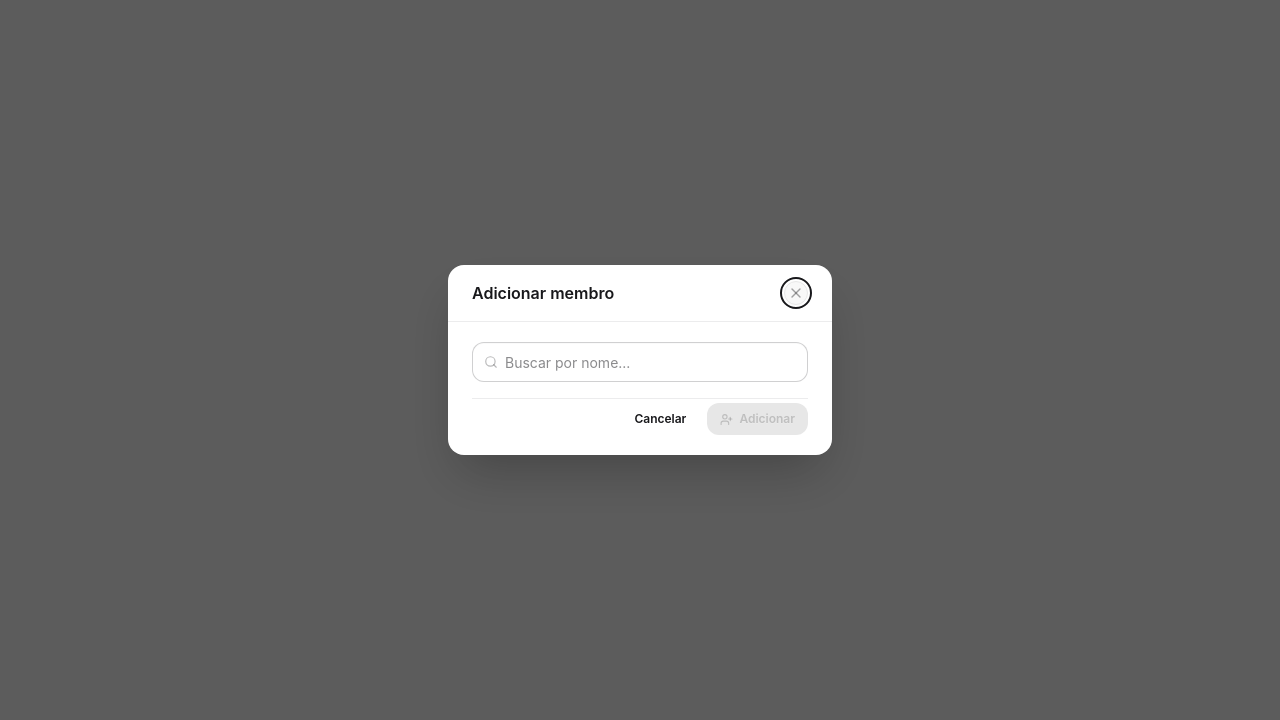
Test case: AddMemberModal › exibe resultados da busca no dropdown
In the field with placeholder "Buscar por nome...": [640, 362] box [472,342,808,382], type "Alice"
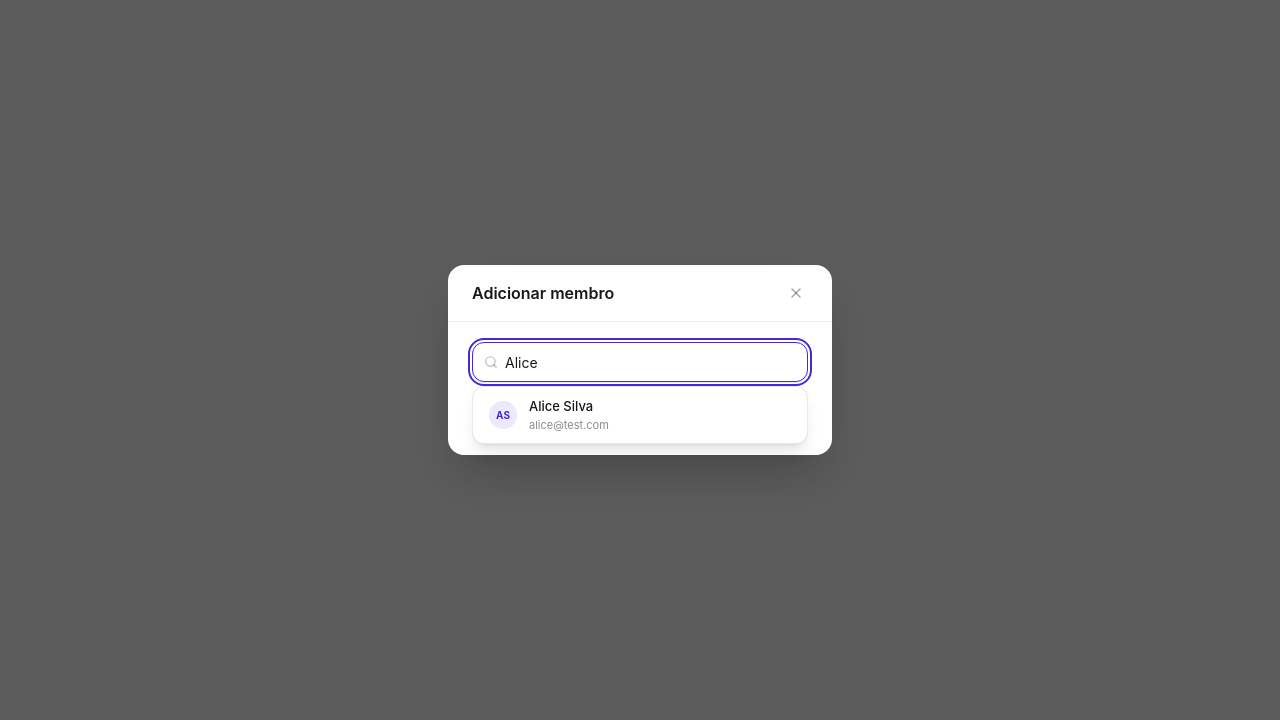
Check: the text "Alice Silva" is shown, box [529,398,593,414]
